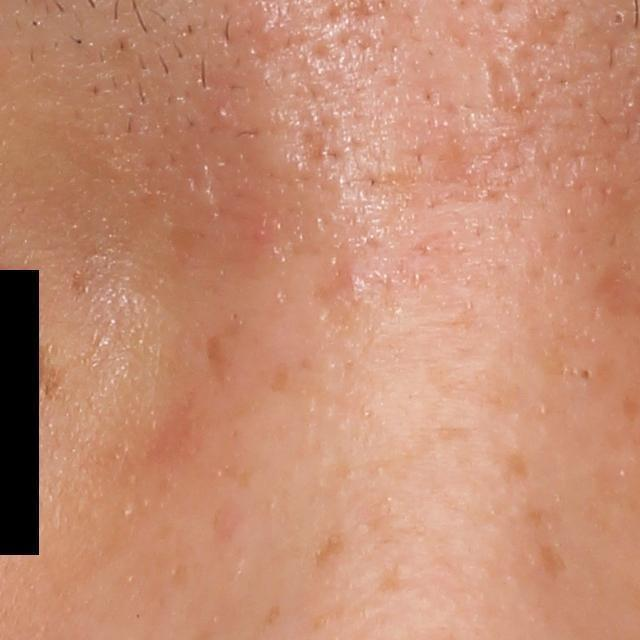atrophic_scar: (480, 48, 528, 119)
comedo: (572, 361, 598, 391), (610, 6, 634, 27)
melasma: (203, 325, 238, 382), (494, 447, 539, 491), (264, 355, 300, 400), (311, 529, 350, 568), (533, 542, 570, 581), (40, 359, 71, 405), (379, 560, 408, 599), (70, 268, 94, 297)
